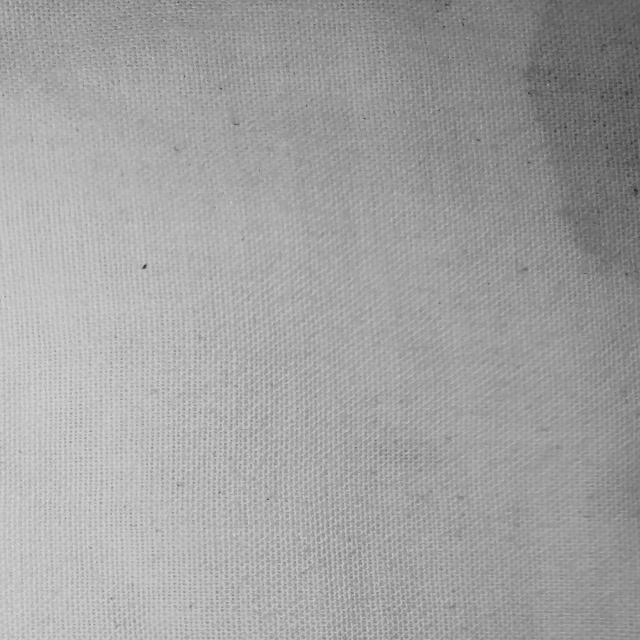Stain: (526, 0, 639, 295)
